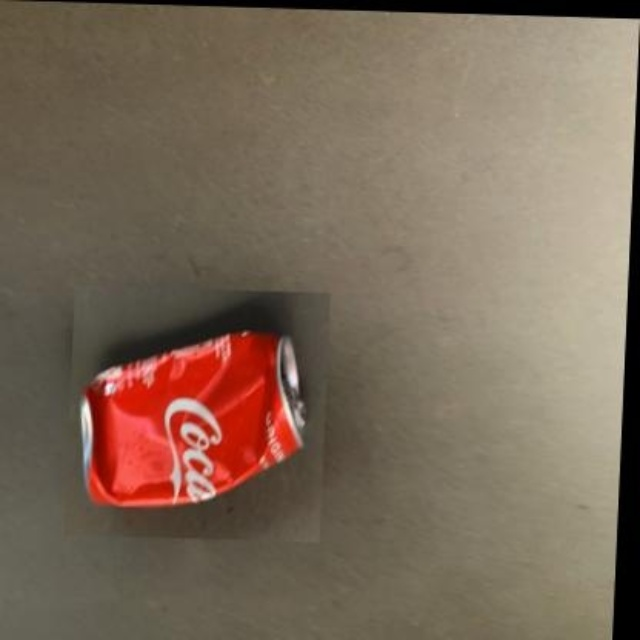trash: (80, 331, 303, 506)
